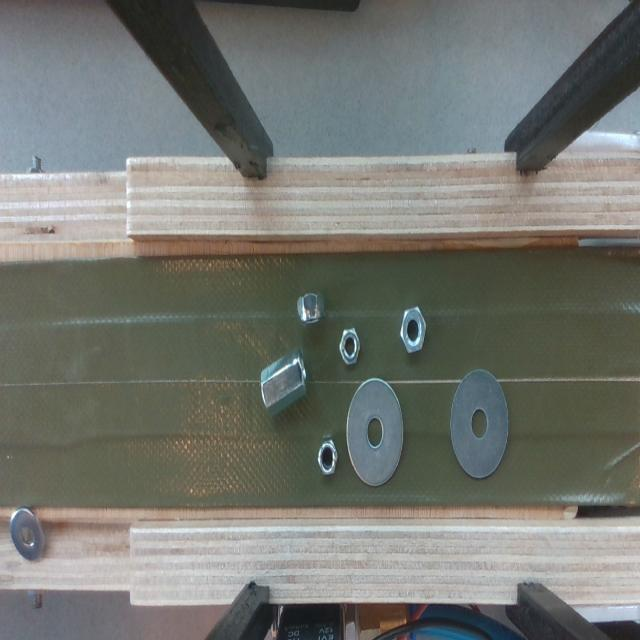Nut: (258, 346, 310, 425), (397, 300, 431, 356), (296, 284, 329, 334), (314, 437, 340, 481), (339, 326, 363, 370)
Washer: (340, 376, 412, 489), (449, 362, 516, 483)
